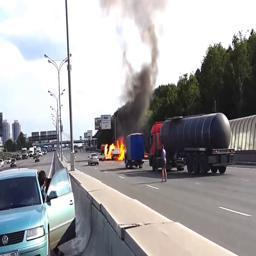fire: (105, 138, 126, 161)
